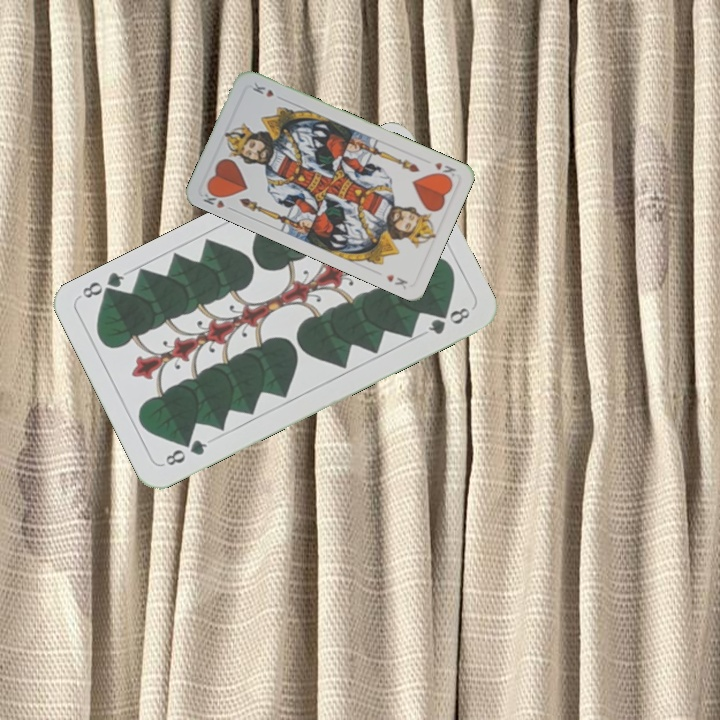G8: (161, 435, 210, 469)
HK: (198, 185, 237, 214), (431, 158, 459, 183)
